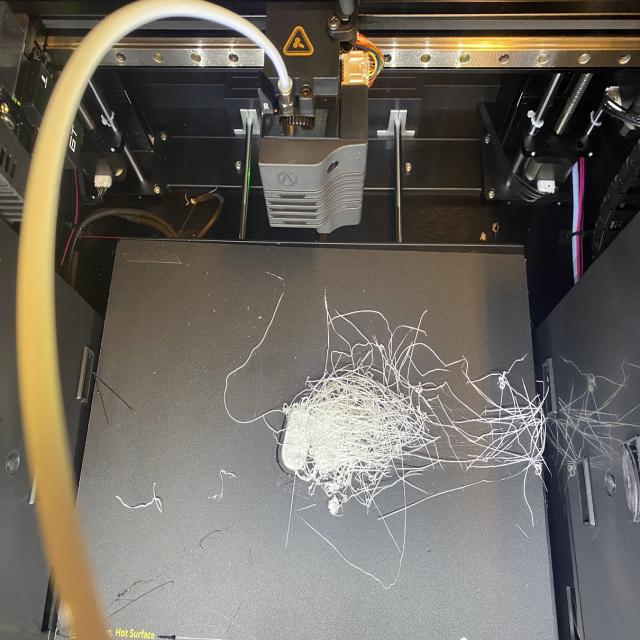spaghetti: (204, 247, 560, 516), (112, 481, 169, 521), (206, 464, 245, 517)
